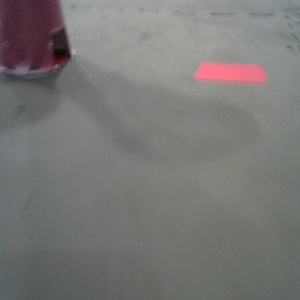middle: (1, 1, 78, 81)
